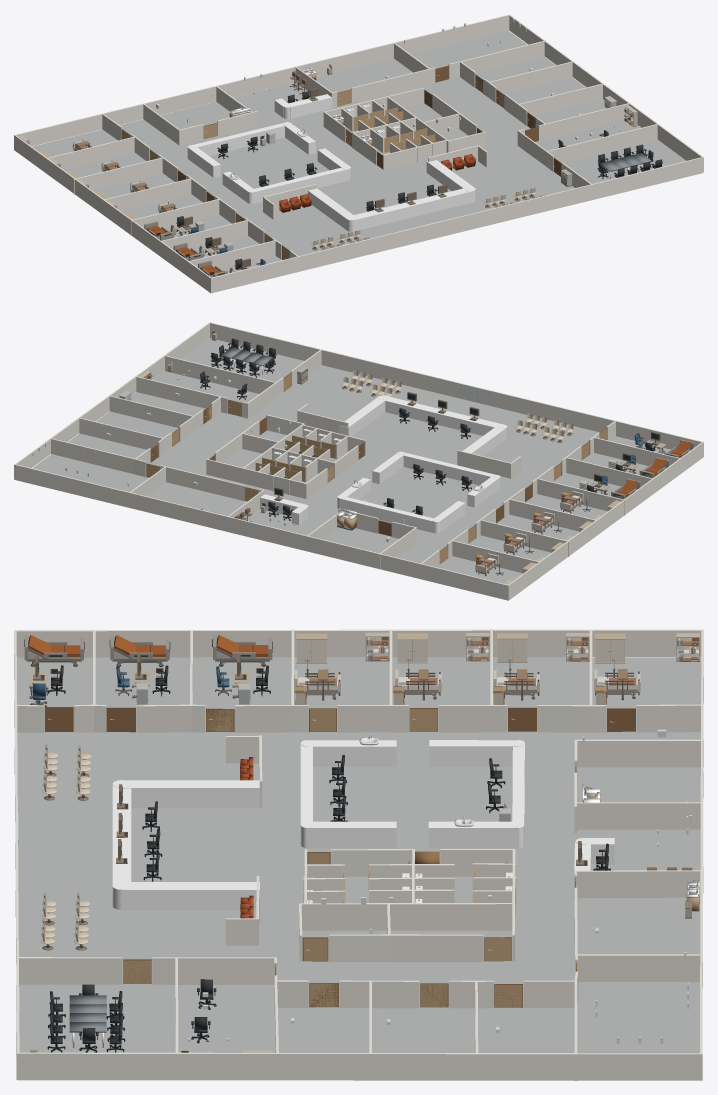
Rendered from hospital_environment.glb.
3 renders of one model, top to bottom at view 1: azimuth 30°, elevation 25°; view 2: azimuth 150°, elevation 25°; view 3: azimuth 270°, elevation 25°, orthographic. The views are drawn at different scales.
Parts seen in each view (by area): view 1: hospital_L1__wall_1__wall_1, Hospital_Floor, Reception_Front_Body, hospital_L1__wall_2__wall_2, Reception_Front_Body.001, Reception_Front_Body.002, hospital_L1__wall_3__wall_3, Reception_Left_Body, Reception_Right_Body, Reception_Front_Body.003, Reception_Right_Body.002, Reception_Left_Body.002 (+1 smaller); view 2: hospital_L1__wall_1__wall_1, Hospital_Floor, Reception_Front_Body, hospital_L1__wall_3__wall_3, hospital_L1__wall_2__wall_2, Reception_Front_Body.002, Reception_Front_Body.001, Reception_Right_Body, Reception_Left_Body, Reception_Right_Body.001, Reception_Left_Body.001, Reception_Right_Body.002; view 3: Hospital_Floor, hospital_L1__wall_1__wall_1, hospital_L1__wall_2__wall_2, Reception_Left_Body, Reception_Right_Body, Reception_Right_Body.001, Reception_Left_Body.002, Reception_Right_Body.002, Reception_Left_Body.001, Reception_Front_Body, hospital_L1__wall_3__wall_3, Reception_Front_Body.002 (+8 smaller).
Boxes of the visible parts, x1,y1,x2,y2 form: hospital_L1__wall_1__wall_1: (14,14,703,293); Hospital_Floor: (32,30,702,273); Reception_Front_Body: (354,188,472,231); hospital_L1__wall_2__wall_2: (341,103,433,166); Reception_Front_Body.001: (253,167,348,203); Reception_Front_Body.002: (192,123,284,155); hospital_L1__wall_3__wall_3: (263,145,487,211); Reception_Left_Body: (308,188,354,230); Reception_Right_Body: (426,160,473,190); Reception_Front_Body.003: (289,94,332,118); Reception_Right_Body.002: (188,146,220,177); Reception_Left_Body.002: (284,123,315,154); hospital_L1__wall_1__wall_1: (14,322,703,600); Hospital_Floor: (18,338,670,583); Reception_Front_Body: (385,396,501,435); hospital_L1__wall_3__wall_3: (297,404,511,478); hospital_L1__wall_2__wall_2: (272,428,347,494); Reception_Front_Body.002: (339,497,434,533); Reception_Front_Body.001: (403,452,495,485); Reception_Right_Body: (339,397,386,436); Reception_Left_Body: (462,426,506,455); Reception_Right_Body.001: (372,453,404,484); Reception_Left_Body.001: (467,476,500,507); Reception_Right_Body.002: (434,501,465,532); Hospital_Floor: (16,657,701,1079); hospital_L1__wall_1__wall_1: (14,629,703,1080); hospital_L1__wall_2__wall_2: (303,863,516,904); Reception_Left_Body: (123,780,259,807); Reception_Right_Body: (122,882,259,909); Reception_Right_Body.001: (307,821,396,848); Reception_Left_Body.002: (428,821,518,848); Reception_Right_Body.002: (429,740,518,766); Reception_Left_Body.001: (308,740,396,766); Reception_Front_Body: (112,785,131,884); hospital_L1__wall_3__wall_3: (225,735,262,945); Reception_Front_Body.002: (512,744,524,834).
Bounding box in the file's own units: 37.98 × 1.69 × 26.04.
Materials: 111 (1 with a texture image).
